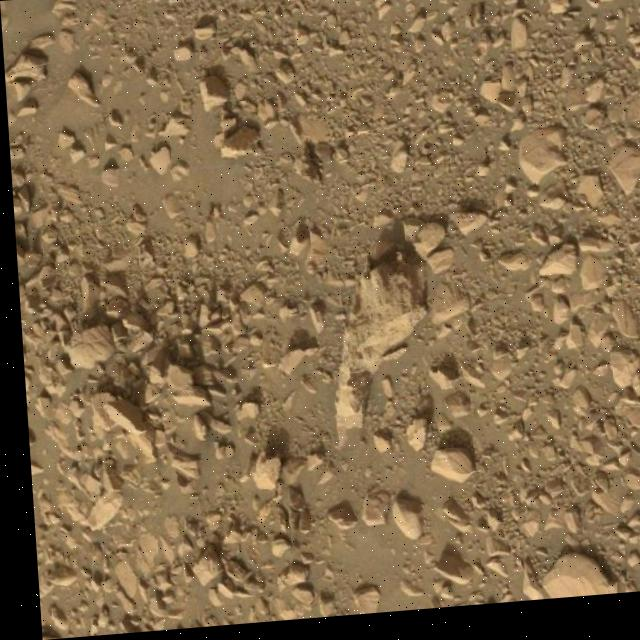mars-rocks: (329, 266, 422, 452), (535, 561, 610, 607)
